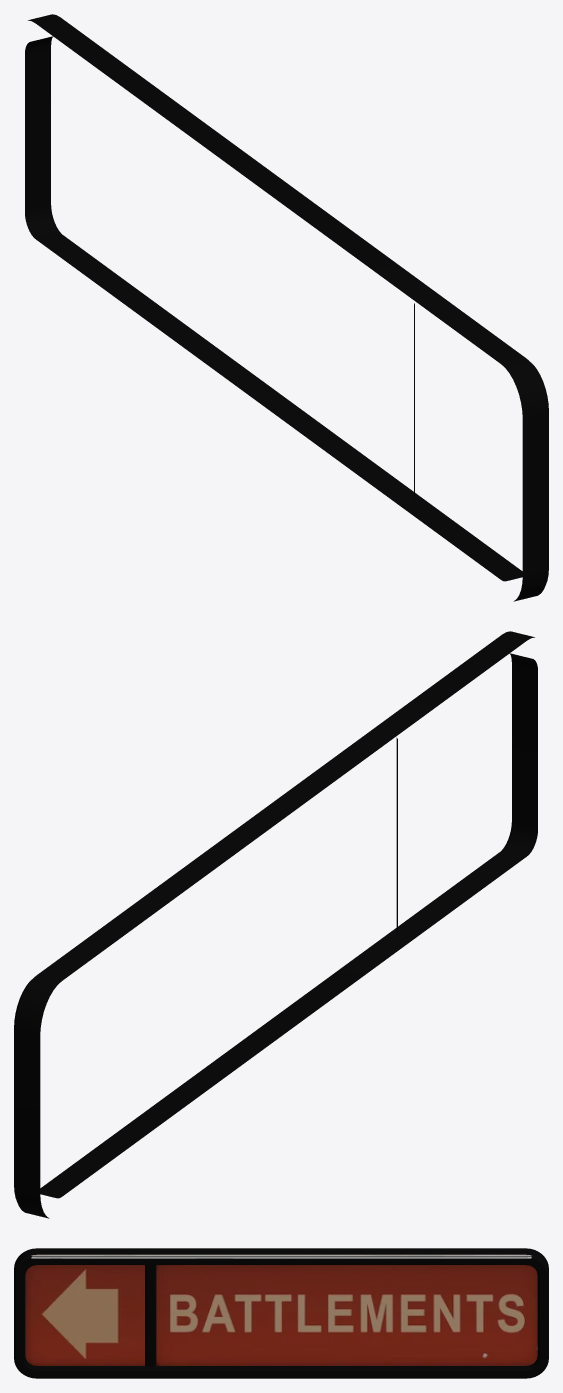
The picture shows the model from 3 angles, top to bottom: view 1: azimuth 30°, elevation 25°; view 2: azimuth 150°, elevation 25°; view 3: azimuth 270°, elevation 25°; orthographic projection. The views are drawn at different scales.
Parts seen in each view (by area): view 1: body0_model0_lod0_mesh0; view 2: body0_model0_lod0_mesh0; view 3: body0_model0_lod0_mesh0.
Part boxes in pixels (x1=…): body0_model0_lod0_mesh0: x1=25, y1=14, x2=548, y2=601; body0_model0_lod0_mesh0: x1=14, y1=631, x2=537, y2=1218; body0_model0_lod0_mesh0: x1=14, y1=1248, x2=548, y2=1378.
Bounding box in the file's own units: 2.99 × 24 × 94.
Materials: 1 (1 with a texture image).
